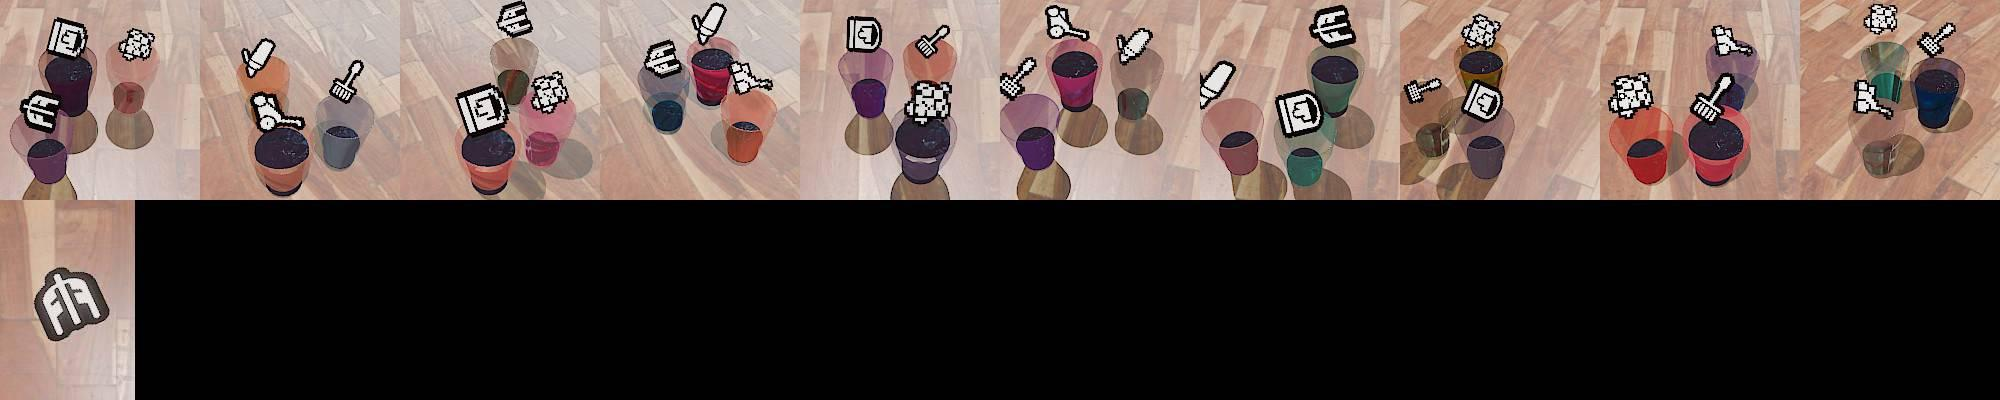icon: (31, 265, 110, 343), (454, 83, 509, 138), (1273, 88, 1324, 138), (249, 90, 305, 135), (904, 76, 954, 124), (1606, 73, 1656, 117), (1690, 74, 1735, 124), (46, 17, 89, 62), (1310, 5, 1356, 48), (19, 89, 62, 134), (1199, 60, 1236, 111), (529, 70, 571, 115), (1045, 4, 1092, 43), (1460, 80, 1503, 124), (1852, 76, 1894, 120), (999, 56, 1037, 101), (728, 60, 774, 97), (327, 59, 364, 104), (690, 1, 727, 45), (1710, 23, 1755, 59), (643, 38, 684, 76), (495, 0, 533, 38), (913, 22, 952, 60), (1115, 27, 1152, 66), (1916, 22, 1955, 59), (241, 37, 276, 79), (846, 15, 883, 54), (117, 27, 154, 62), (1864, 4, 1899, 36), (1404, 75, 1441, 103), (1462, 22, 1497, 47)
